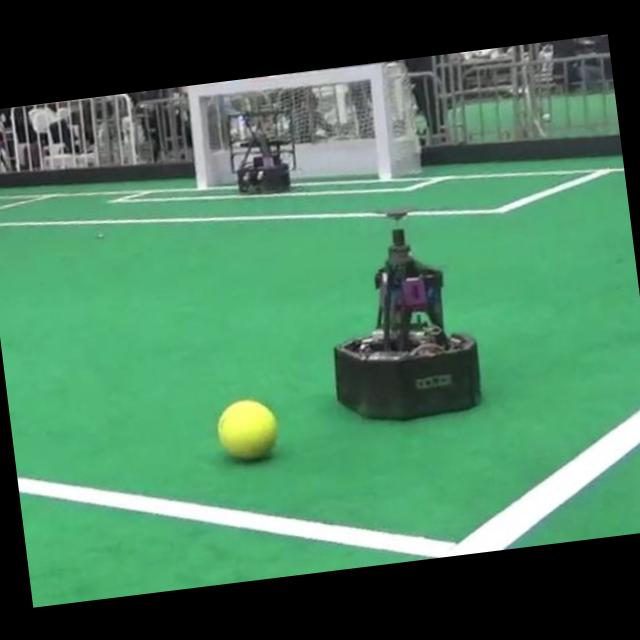ball: (216, 398, 276, 458)
goal: (370, 64, 392, 176), (187, 84, 208, 187)
robot: (334, 227, 480, 417), (227, 110, 296, 193)
